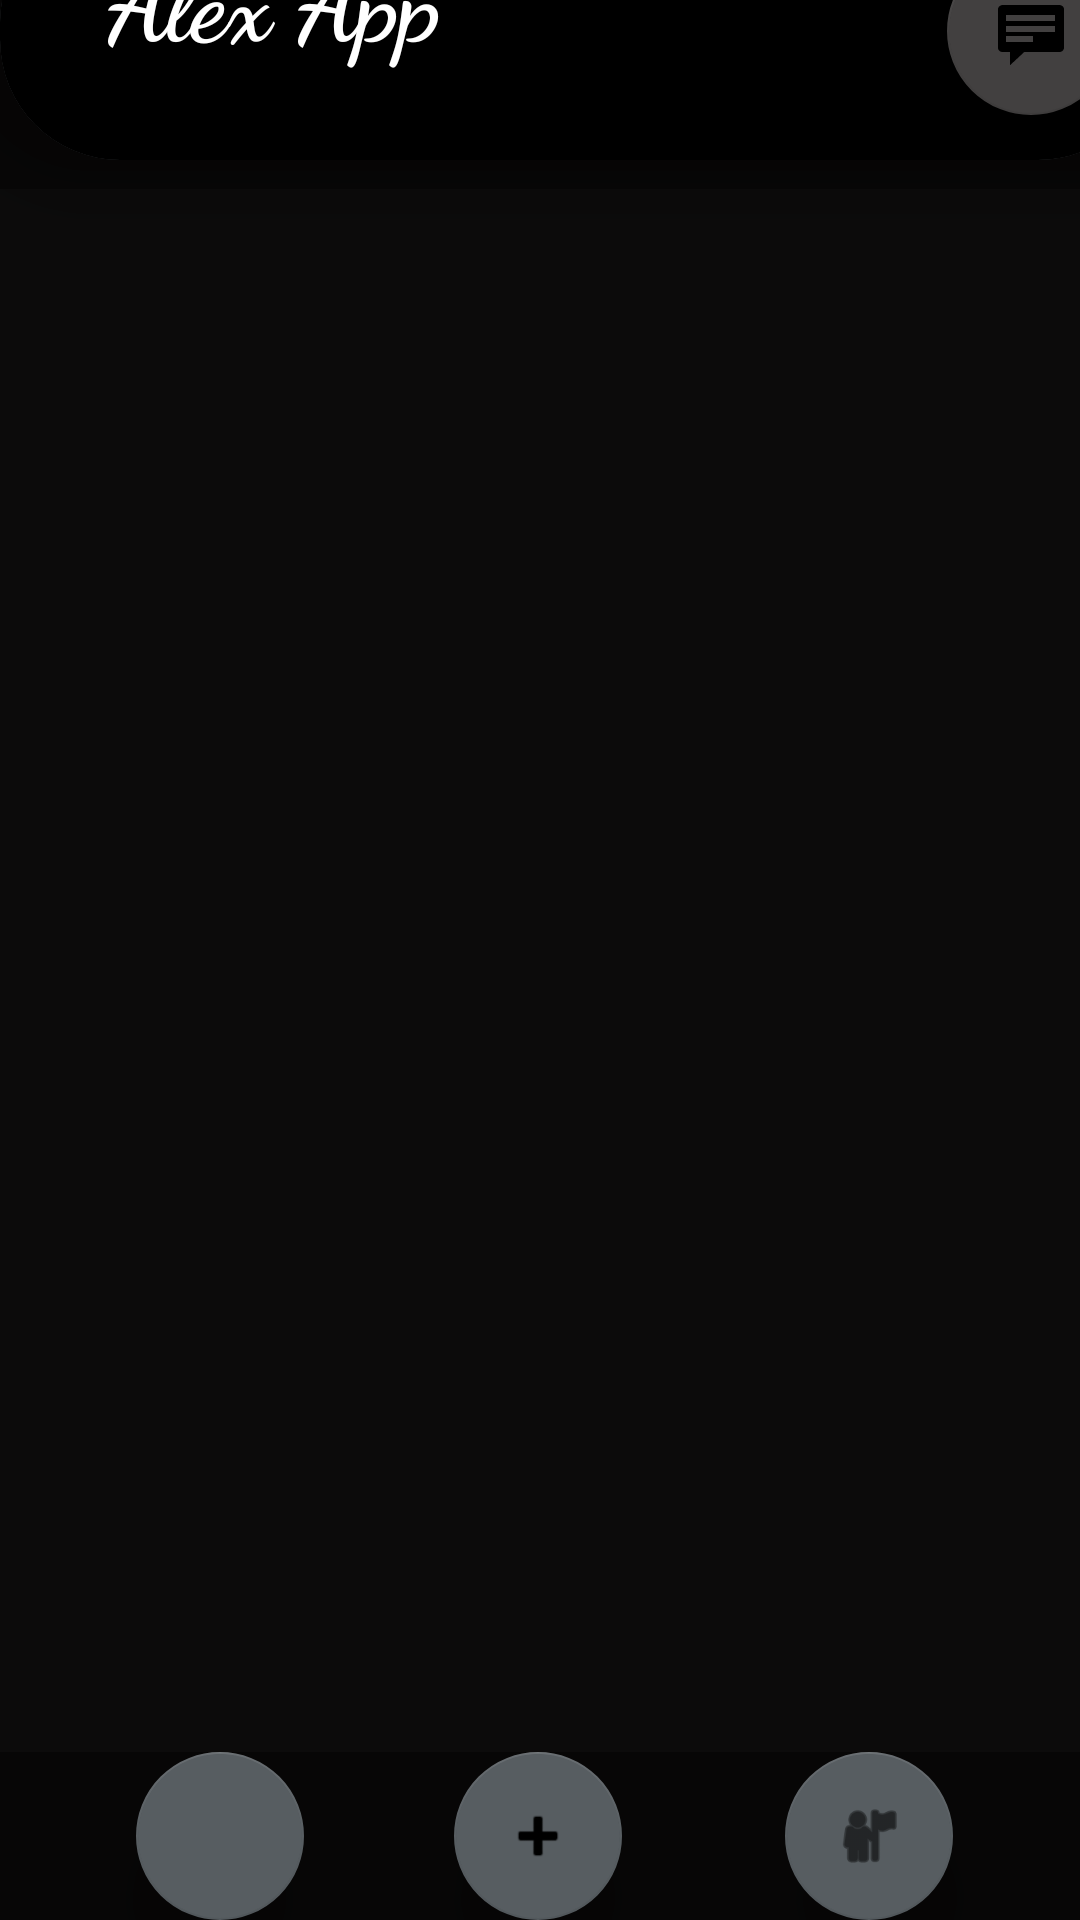

Where icons sit on this 1080*1920 app screen, as (x1=x1, y1=y1, x2=x2, y2=y2):
add: (x1=454, y1=1752, x2=622, y2=1920)
myplaces: (x1=785, y1=1752, x2=953, y2=1920)
